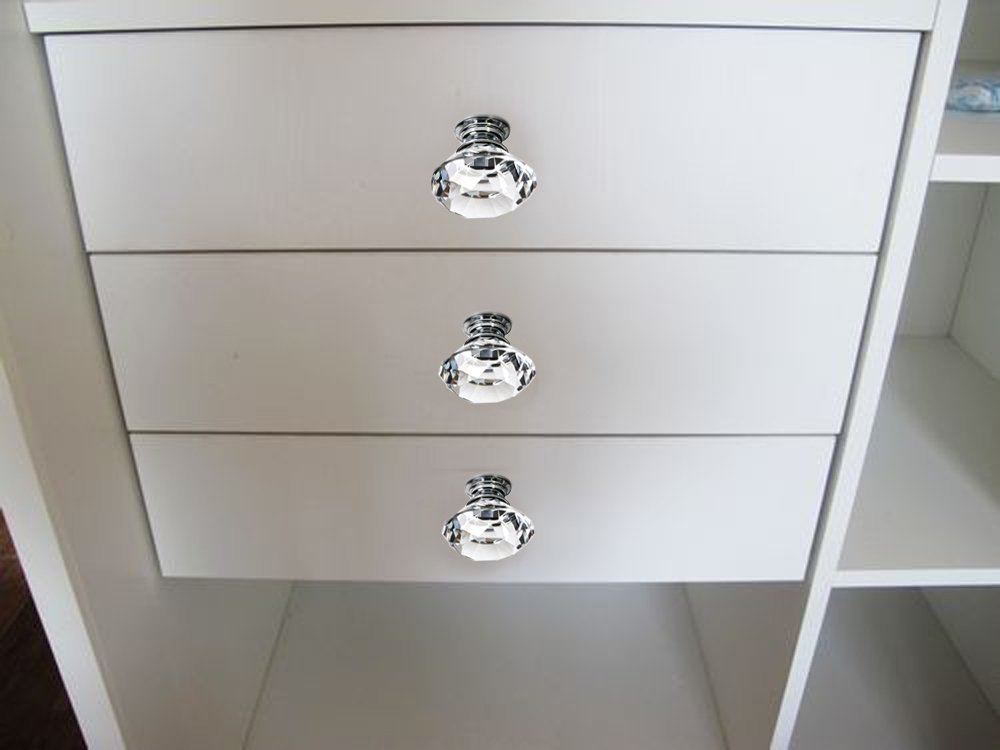cabinet door: (62, 51, 893, 252), (96, 249, 845, 441), (129, 435, 819, 585)
handle: (416, 129, 549, 233), (427, 316, 543, 415), (434, 499, 538, 564)
